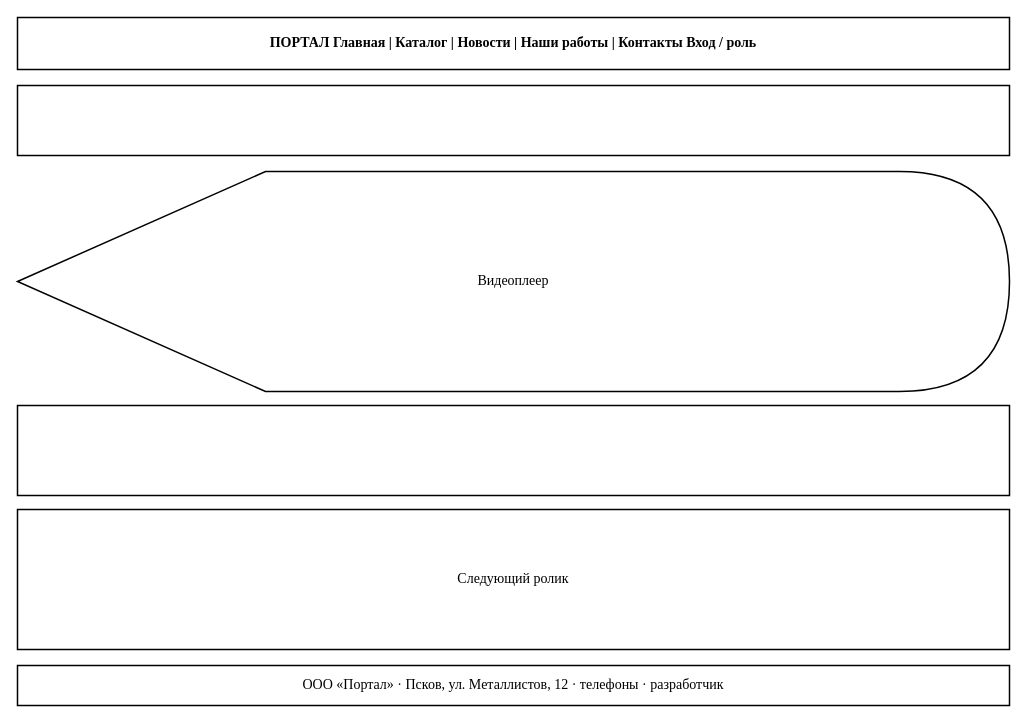
This 1028x724 diagram has some shape labels left out. The shapes that lost their labels are listed below. From the top down, each one's centre as x and y in pixels, then its label:
At [513,120]: "Наши работы — видео с прошлых заказов".
At [513,450]: "Название, объект, дата съёмки, описание".
